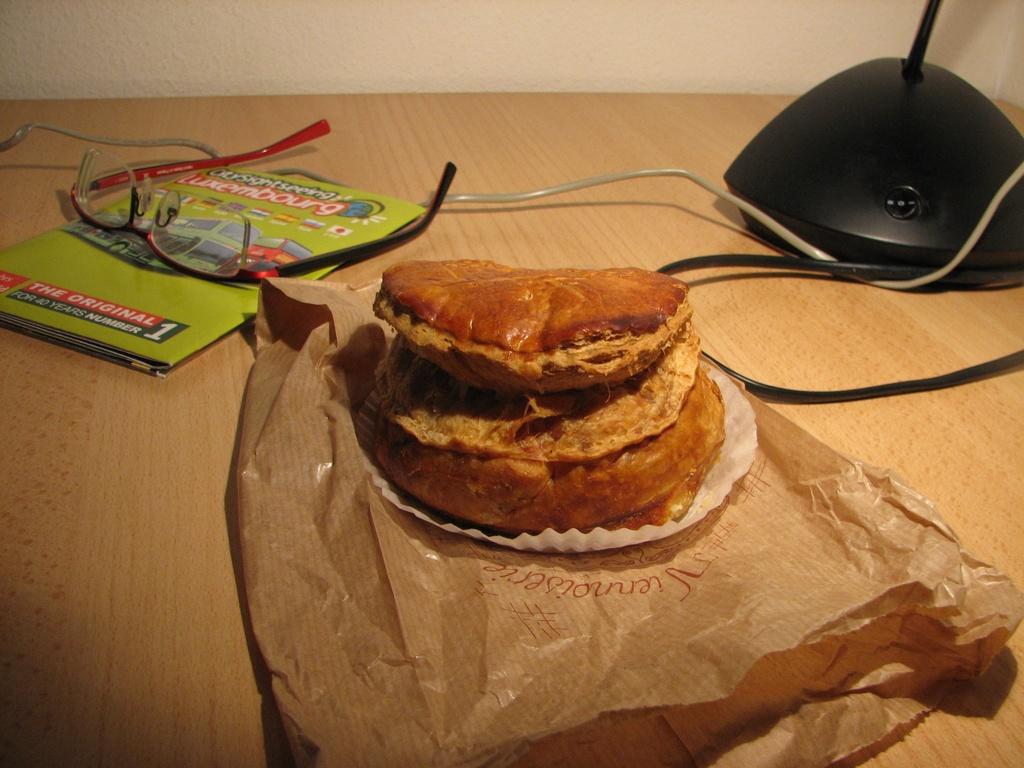Hamburger: (364, 256, 724, 534)
